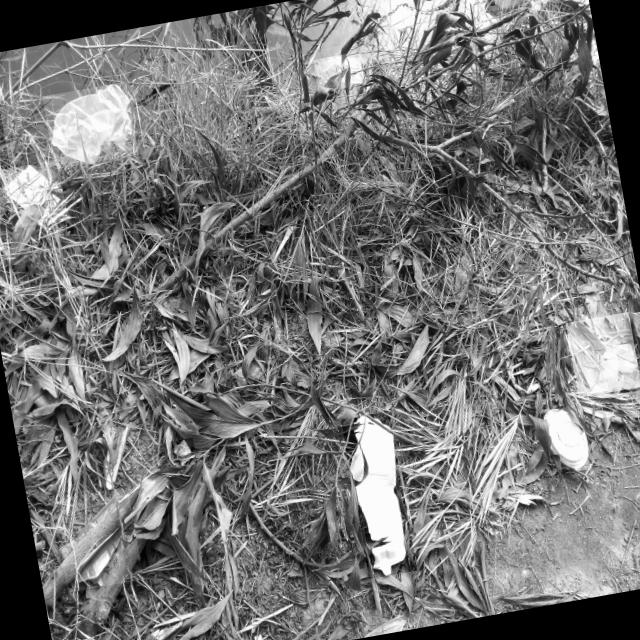Bottle cap: (516, 326, 526, 340), (487, 0, 494, 6)
Food container: (350, 415, 406, 576)
Lid: (543, 408, 589, 469)
Other plastic: (60, 488, 134, 586)
Plastic film: (50, 84, 131, 163), (567, 322, 636, 392), (313, 56, 365, 87), (504, 358, 547, 394)
Straw: (0, 140, 11, 183)
Unlabeled litter: (4, 164, 63, 223), (173, 439, 195, 464)
